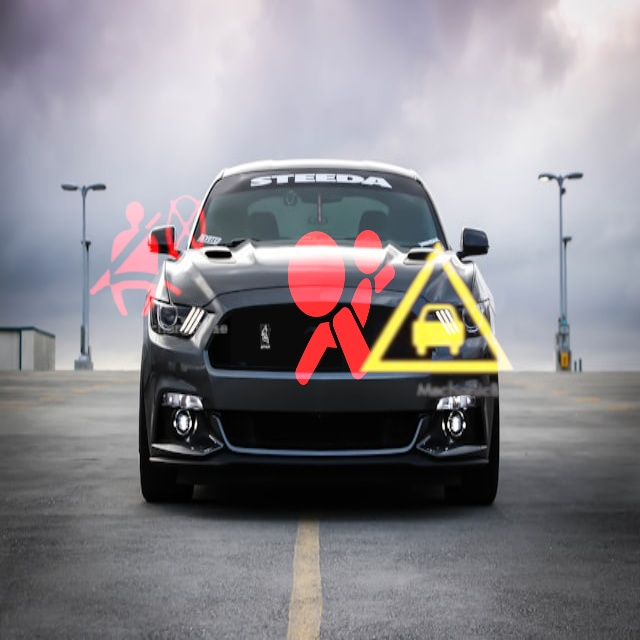symbol: (231, 199, 438, 406), (342, 214, 534, 406), (62, 170, 234, 342)
